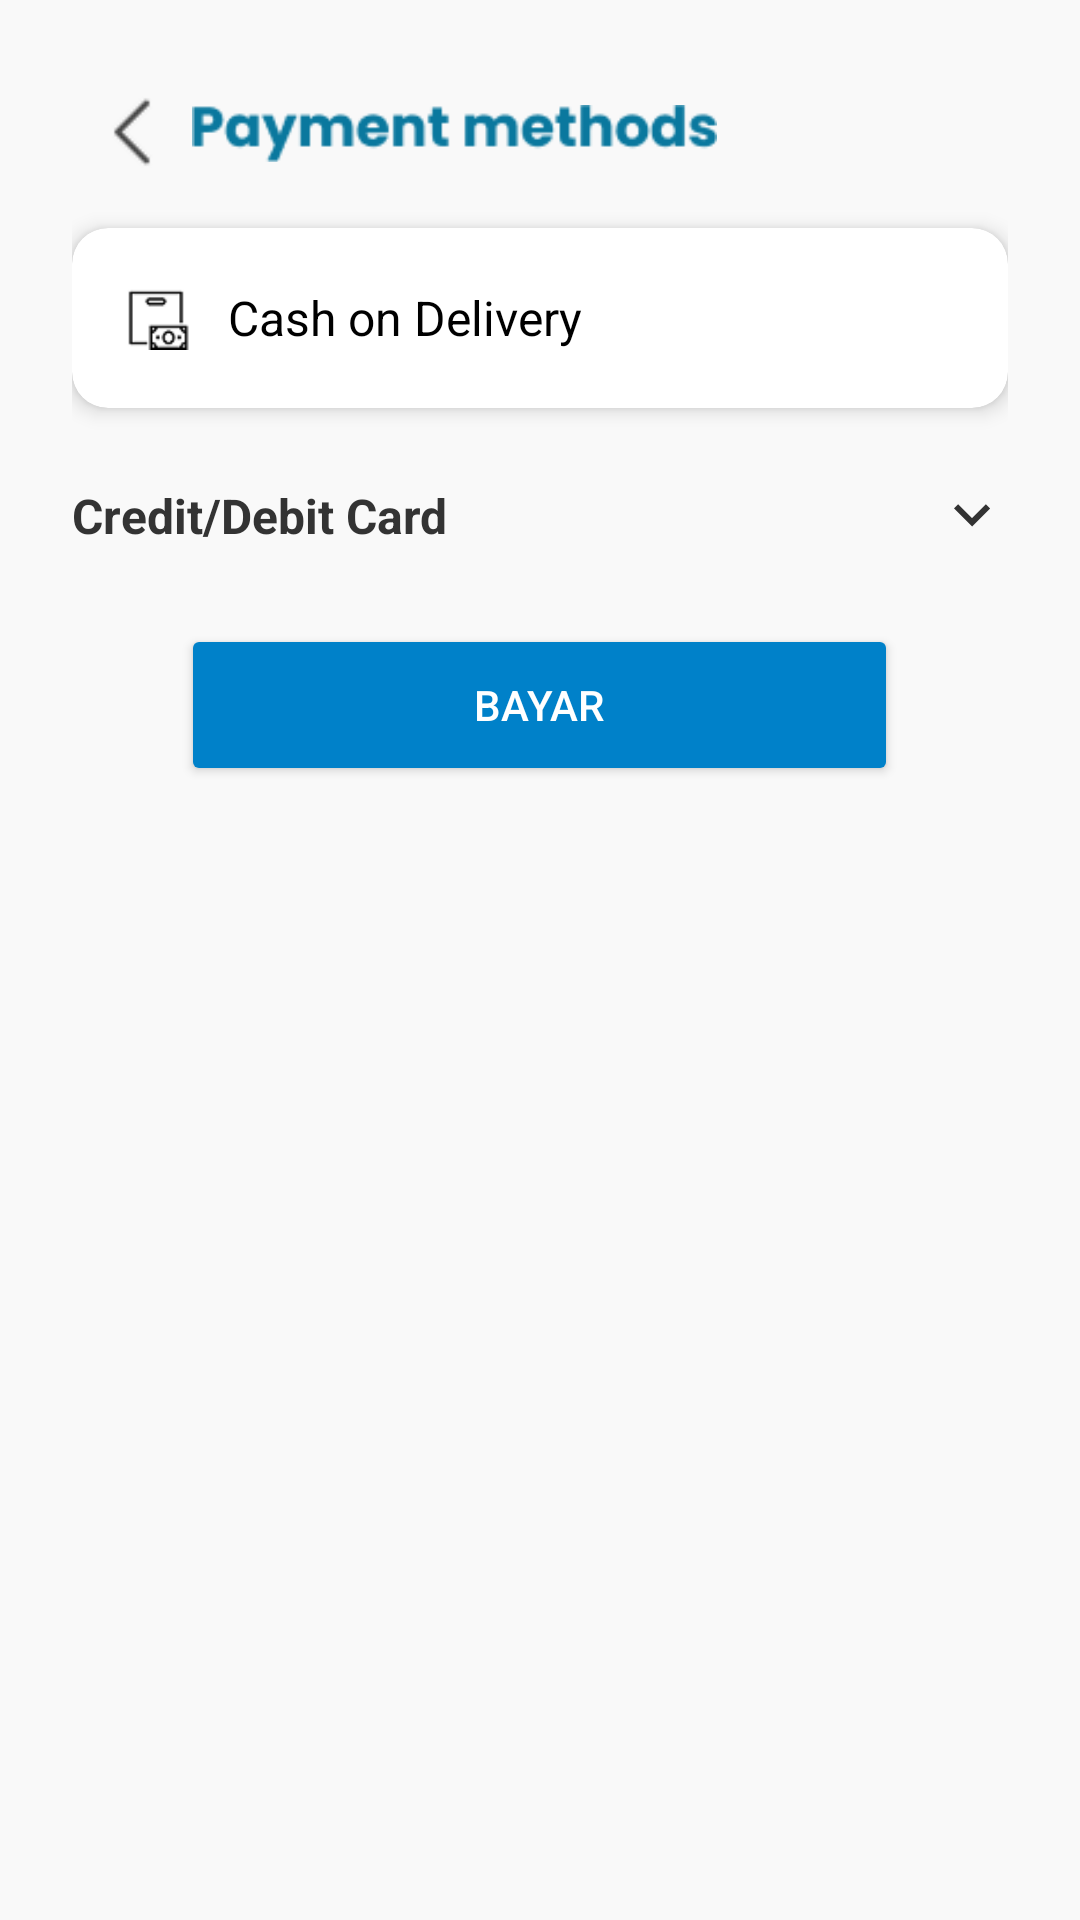

Icon click points for this 1080 x 1920 phone screenshot, format [x,y]:
Back: [132,132]
Toggle icon: [972,515]
